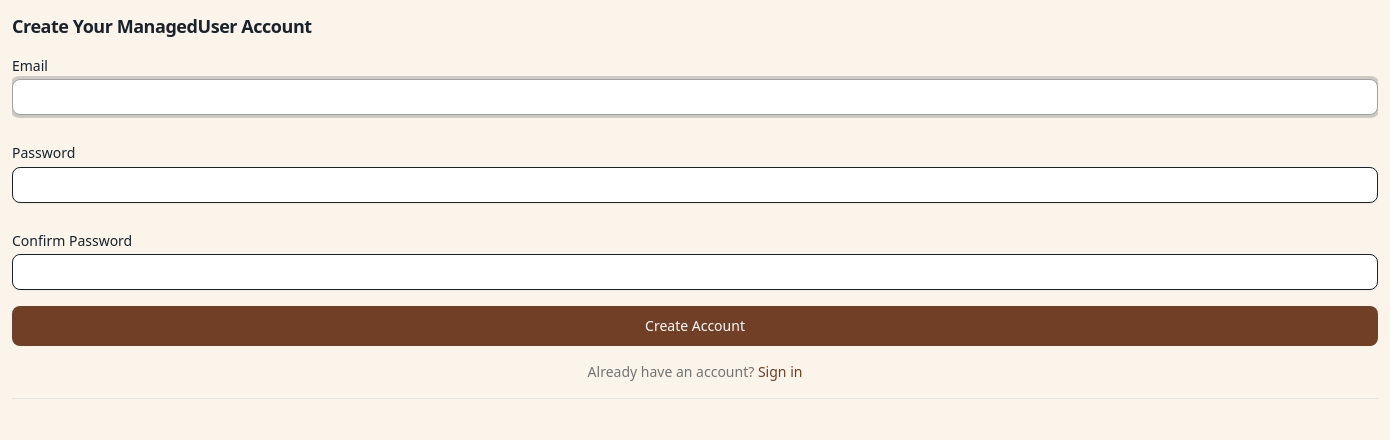
Test: CreateAccountForm › should show error when passwords do not match
In the field named "email": (695, 97) [12,79,1378,115], type "test@example.com"
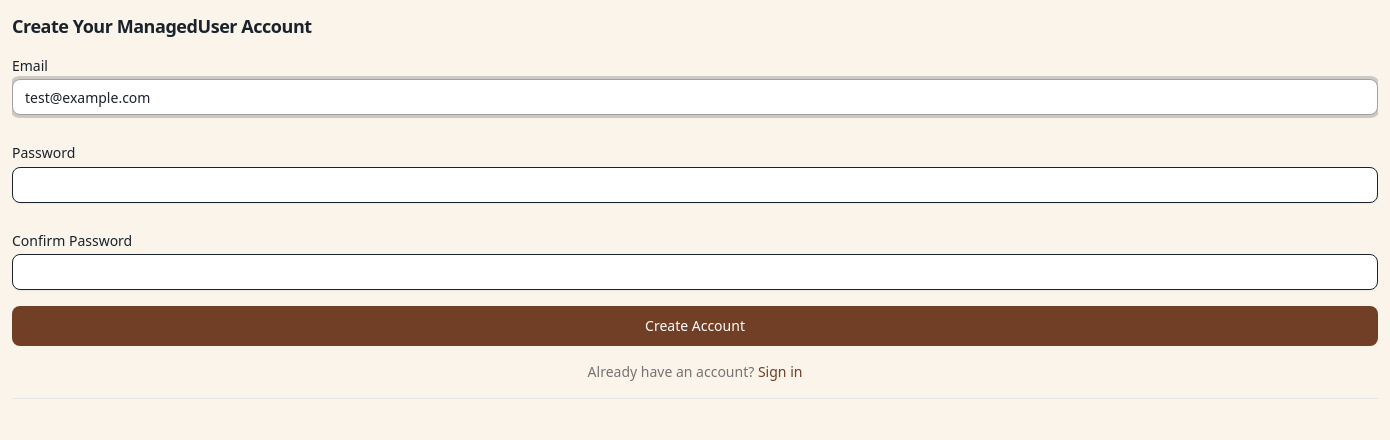
In the password field named "password": (695, 185) [12,167,1378,203], type "Password123!"
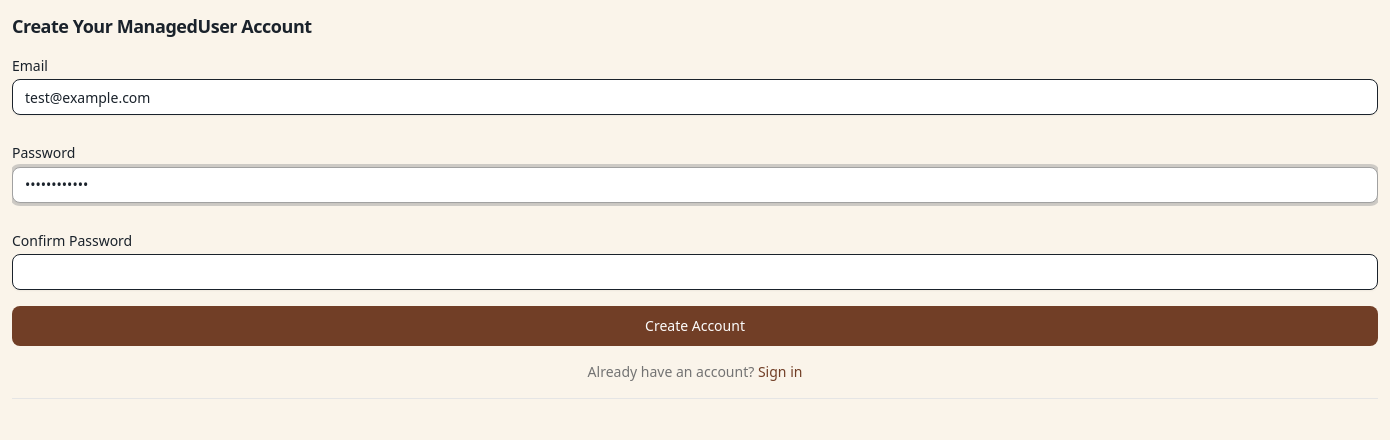
In the password field named "confirmPassword": (695, 272) [12,254,1378,290], type "DifferentPassword123!"
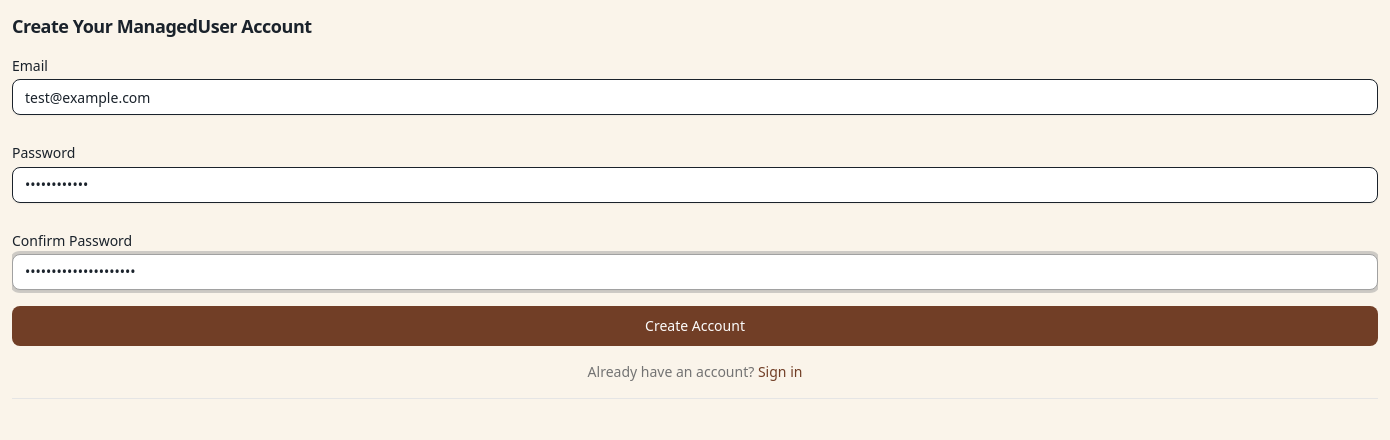
Click the submit button: (695, 326) [12,306,1378,346]
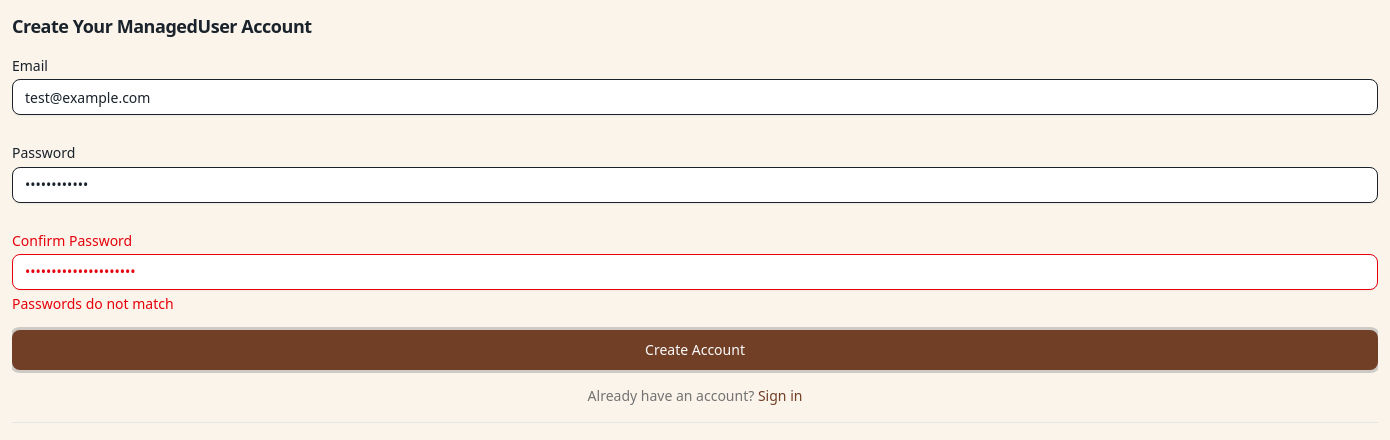
Result: the message with test id "error-message-confirmPassword" reads "Passwords do not match" at [12,294,174,313]
